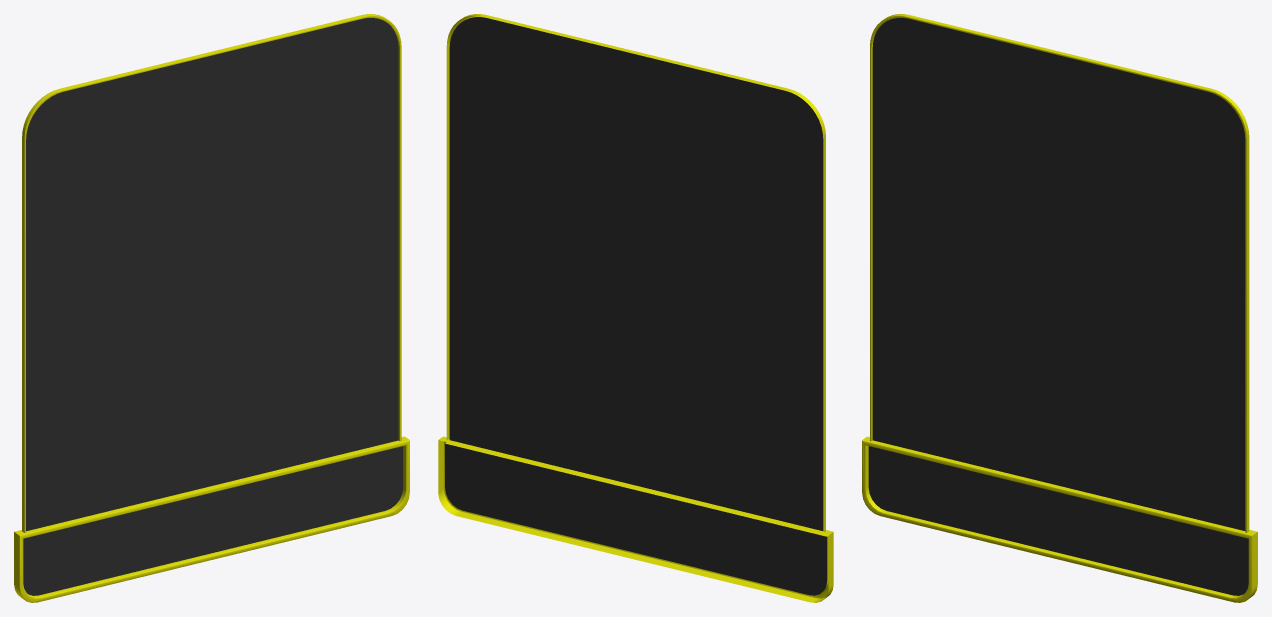
File: GameHolder.fbx
3 views of the same model, side by side, from view 1: azimuth 30°, elevation 25°; view 2: azimuth 150°, elevation 25°; view 3: azimuth 330°, elevation 25° (orthographic).
Parts seen in each view (by area): view 1: Frame, GameHolder; view 2: Frame, GameHolder; view 3: Frame, GameHolder.
Boxes of the visible parts, <box> form: Frame: <box>26,18,398,531</box>; GameHolder: <box>14,14,409,602</box>; Frame: <box>449,17,823,530</box>; GameHolder: <box>438,14,833,602</box>; Frame: <box>872,18,1245,530</box>; GameHolder: <box>862,14,1257,602</box>.
Bounding box in the file's own units: 0.8038 × 0.9927 × 0.0195.
